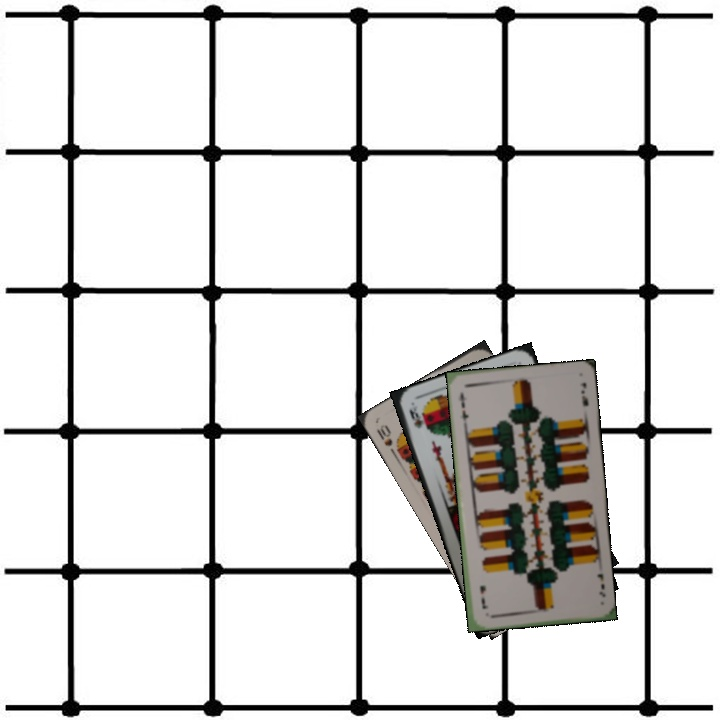E7: (456, 388, 472, 426), (593, 569, 608, 599)
S10: (372, 420, 402, 459)
SK: (405, 401, 426, 431)
